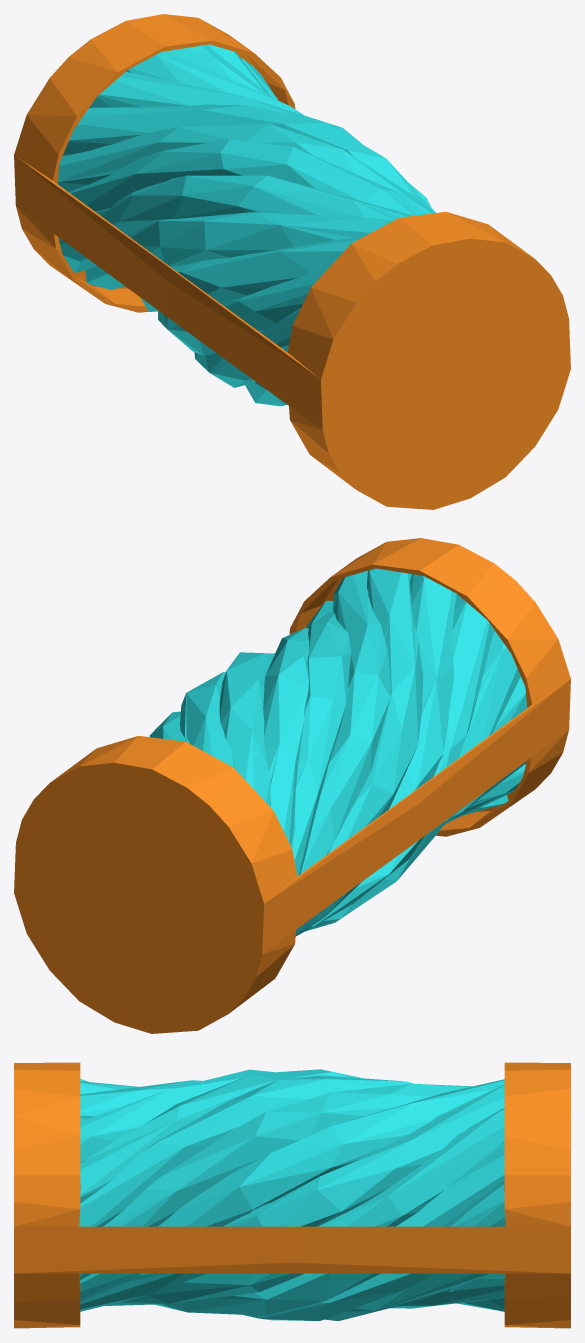
File: Power_Line.fbx
3 views of the same model, one above another, from view 1: azimuth 30°, elevation 25°; view 2: azimuth 150°, elevation 25°; view 3: azimuth 270°, elevation 25° (orthographic). The views are drawn at different scales.
Parts seen in each view (by area): view 1: Power_Cable_LOD0.001; view 2: Power_Cable_LOD0.001; view 3: Power_Cable_LOD0.001.
Boxes of the visible parts, x1,y1,x2,y2 form: Power_Cable_LOD0.001: (14, 14, 570, 509); Power_Cable_LOD0.001: (14, 538, 570, 1033); Power_Cable_LOD0.001: (14, 1062, 570, 1328).
Bounding box in the file's own units: 199 × 200 × 420.
